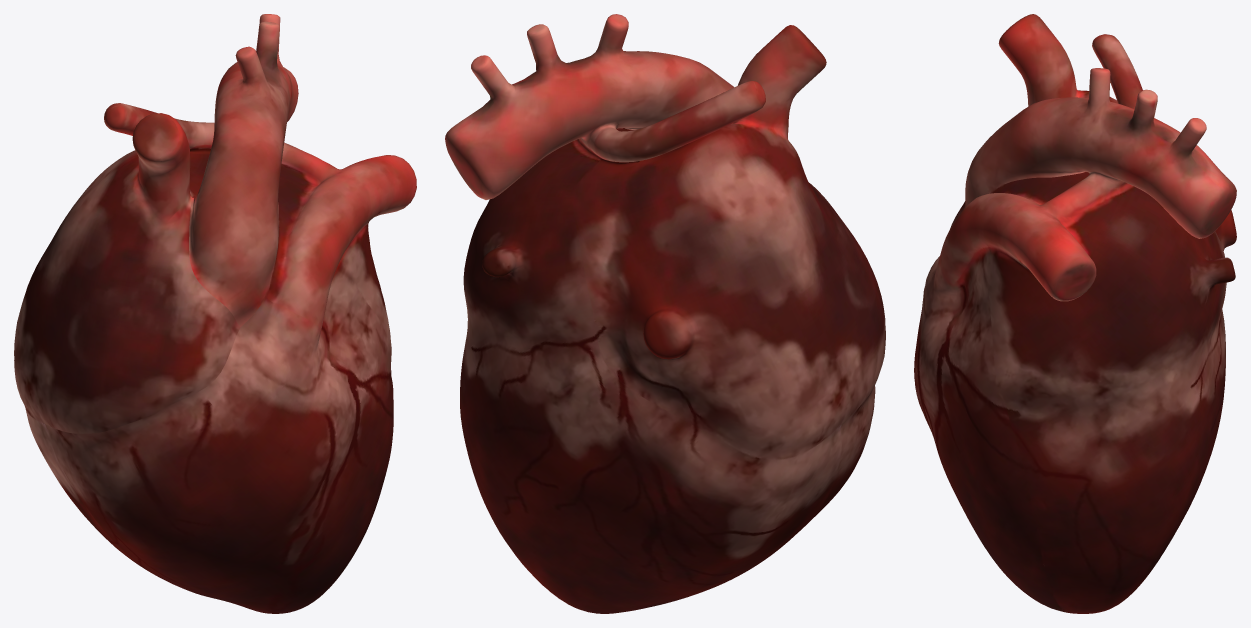
File: realistic_human_heart.glb
3 renders of one model, left to right at view 1: azimuth 30°, elevation 25°; view 2: azimuth 150°, elevation 25°; view 3: azimuth 270°, elevation 25°, orthographic. The views are drawn at different scales.
Visible parts, largest first — view 1: hart:ZBrush_defualt_group; view 2: hart:ZBrush_defualt_group; view 3: hart:ZBrush_defualt_group.
Boxes of the visible parts, x1,y1,x2,y2 form: hart:ZBrush_defualt_group: [14, 14, 416, 613]; hart:ZBrush_defualt_group: [445, 14, 885, 613]; hart:ZBrush_defualt_group: [914, 14, 1236, 613].
Size of the model in its own units: 1.08 by 1.6 by 0.8802.
Materials: 1 (1 with a texture image).
